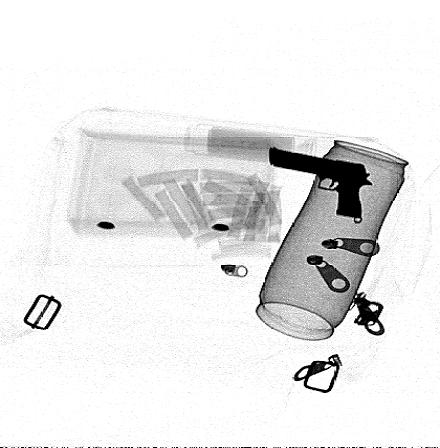Gun: (268, 146, 374, 218)
